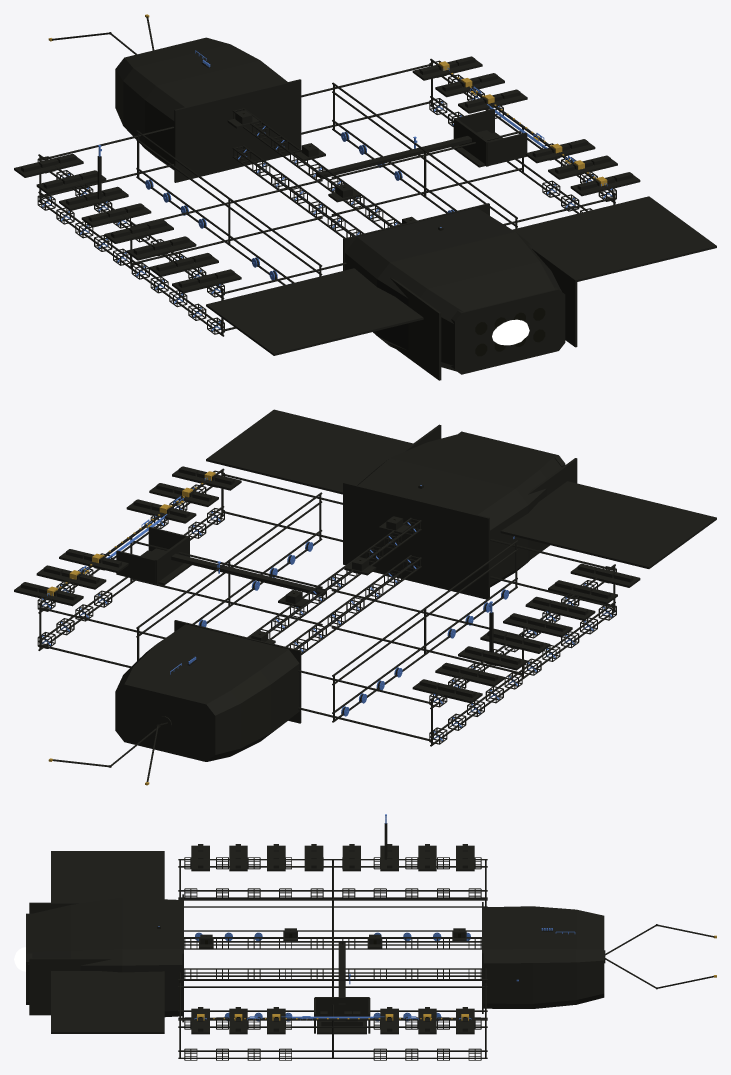
The picture shows the model from 3 angles, top to bottom: view 1: azimuth 30°, elevation 25°; view 2: azimuth 150°, elevation 25°; view 3: azimuth 270°, elevation 25°; orthographic projection. The views are drawn at different scales.
Visible parts, largest first — view 1: RIMWARD_HULL, RIMWARD_ENGINE_GLOW; view 2: RIMWARD_HULL; view 3: RIMWARD_HULL.
Boxes of the visible parts, x1,y1,x2,y2 form: RIMWARD_HULL: (14, 14, 716, 380); RIMWARD_ENGINE_GLOW: (492, 319, 529, 345); RIMWARD_HULL: (14, 409, 716, 785); RIMWARD_HULL: (26, 814, 716, 1060).
Size of the model in its own units: 51.39 by 12.8 by 81.58.
